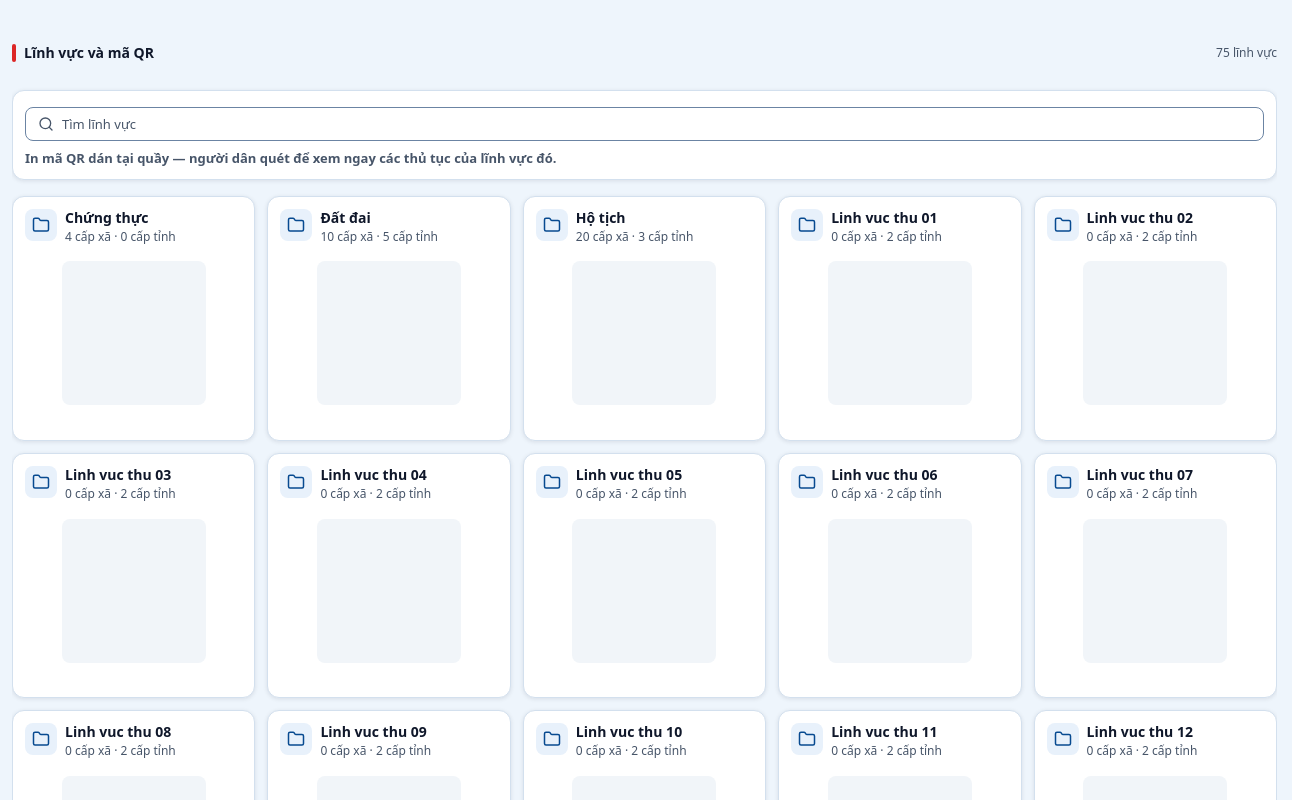
Test: LinhVuc — liên kết của ô (AC-3) › ô lĩnh vực chỉ có thủ tục cấp tỉnh → danh mục cấp tỉnh đã lọc lĩnh vực đó
The width and height of the screenshot is (1292, 800).
Step 1. Click the link "Linh vuc thu 01" → (887, 218), box [831, 209, 942, 227]
(page scrolled)
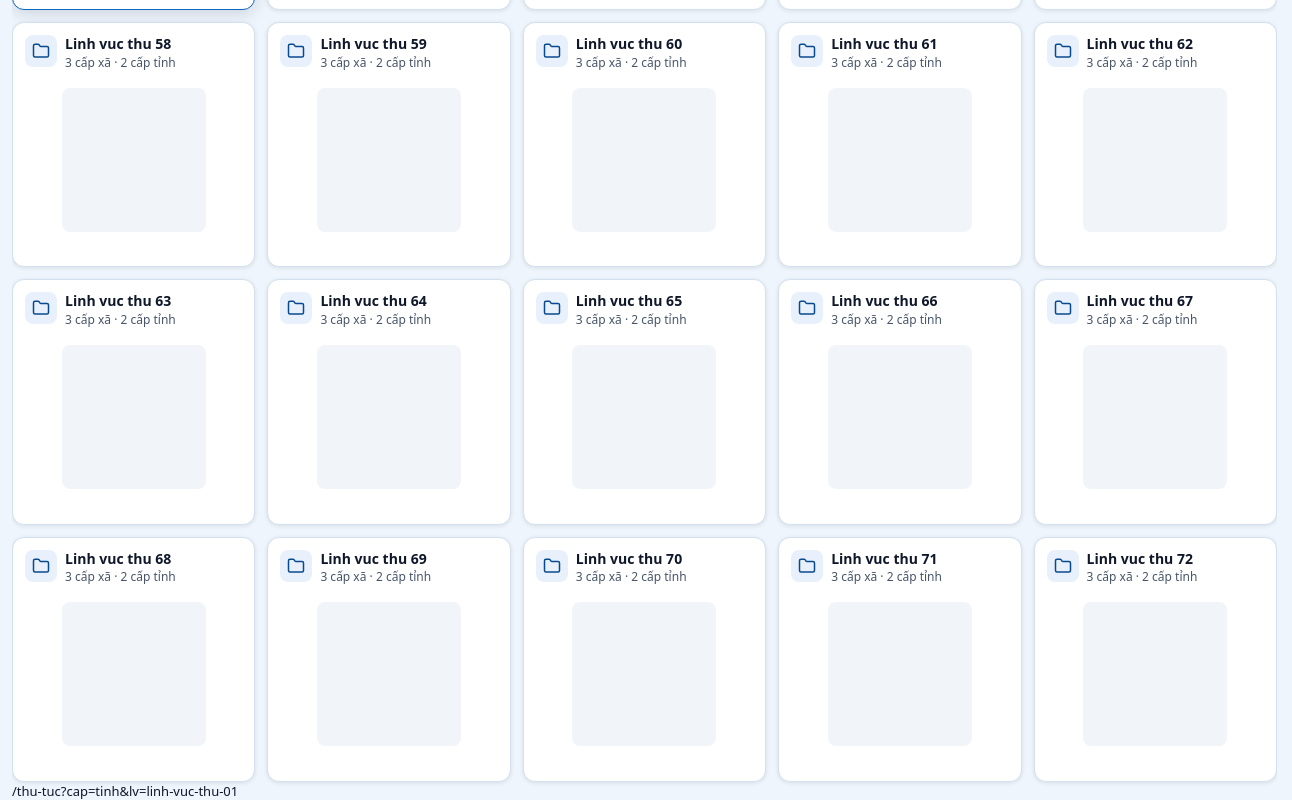
Expected: the text with test id "dia-chi" reads "/thu-tuc?cap=tinh&lv=linh-vuc-thu-01", [12, 782, 238, 799]
